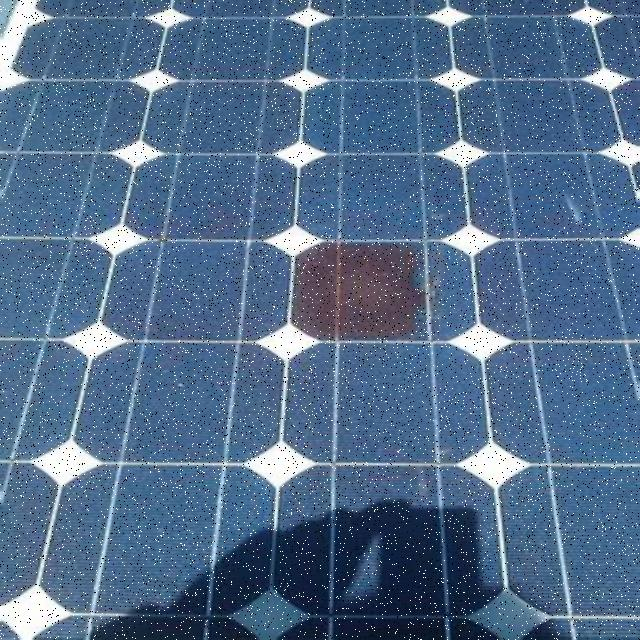electrical damage: (261, 208, 469, 363)
